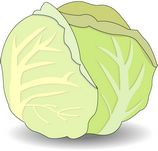cabbage: (0, 0, 157, 140)
